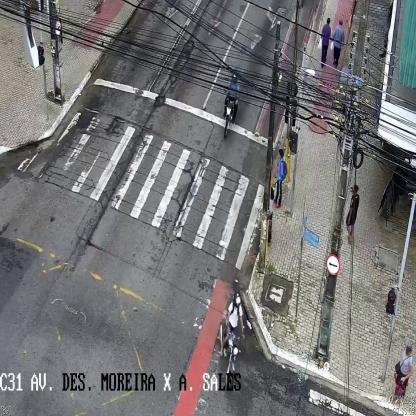motorbike: (220, 291, 245, 388), (223, 70, 240, 140)
person: (395, 344, 413, 404), (346, 186, 359, 242), (274, 148, 286, 208), (331, 20, 345, 67), (320, 16, 331, 67)
